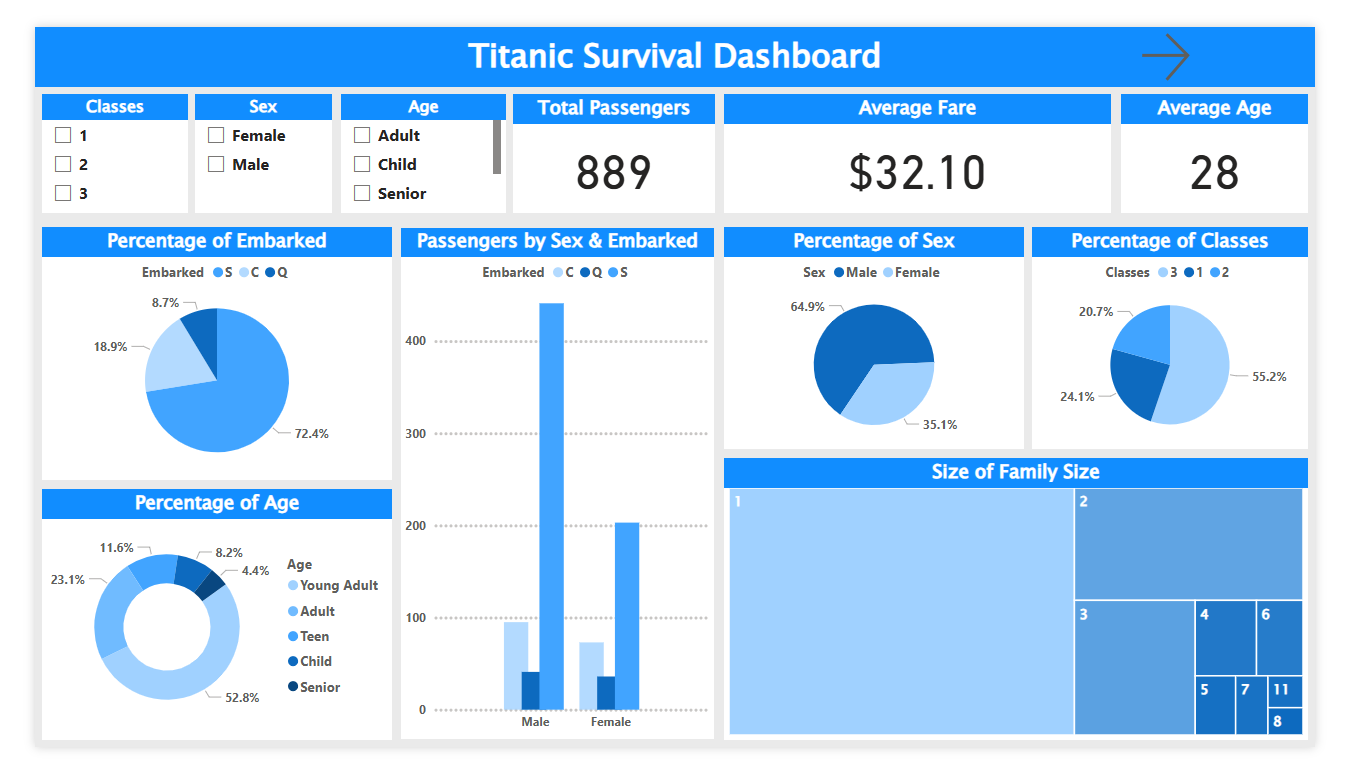

Layout of this report page (visuals, bound fields, positions):
{"tool":"powerbi","page":{"name":"Who Was on Board?","canvas":[1280,720],"ordinal":0},"visuals":[{"type":"textbox","box":[0,0,1280,60],"z":1000},{"type":"cardVisual","title":"Average Age","fields":{"Data":["Titanic.Avg Age Survivors"]},"box":[1086,67,187,119],"z":2000},{"type":"cardVisual","title":"Average Fare","fields":{"Data":["Titanic.Avg Fare"]},"box":[689,67,387,119],"z":3000},{"type":"slicer","title":"Classes","fields":{"Values":["Titanic.Pclass"]},"box":[7,67,146,119],"z":4000},{"type":"slicer","title":"Sex","fields":{"Values":["Titanic.Sex"]},"box":[160,67,137,119],"z":5000},{"type":"cardVisual","title":"Total Passengers","fields":{"Data":["CountNonNull(Titanic.Survived)"]},"box":[478,67,202,119],"z":6000},{"type":"pieChart","title":"Percentage of Classes","fields":{"Category":["Titanic.Pclass"],"Y":["CountNonNull(Titanic.Pclass)"]},"box":[997,200,276,222],"z":7000},{"type":"pieChart","title":"Percentage of Sex","fields":{"Category":["Titanic.Sex"],"Y":["CountNonNull(Titanic.Survived)"]},"box":[689,200,300,222],"z":8000},{"type":"donutChart","title":"Percentage of Age","fields":{"Category":["Titanic.AgeGroup"],"Y":["CountNonNull(Titanic.AgeGroup)"]},"box":[7,462,350,251],"z":9000},{"type":"treemap","title":"Size of Family Size","fields":{"Group":["Titanic.FamilySize"],"Values":["CountNonNull(Titanic.IsAlone)"]},"box":[689,431,584,282],"z":10000},{"type":"pieChart","title":"Percentage of Embarked ","fields":{"Category":["Titanic.Embarked"],"Y":["CountNonNull(Titanic.Embarked)"]},"box":[7,200,350,253],"z":11000},{"type":"slicer","title":"Age","fields":{"Values":["Titanic.AgeGroup"]},"box":[306,67,165,119],"z":12000},{"type":"clusteredColumnChart","title":"Passengers by Sex & Embarked","fields":{"Category":["Titanic.Sex"],"Y":["CountNonNull(Titanic.Survived)"],"Series":["Titanic.Embarked"]},"box":[365,200,315,513],"z":13000},{"type":"actionButton","box":[979,0,301,60],"z":14000}]}

Visuals, with their boxes in screenshot pixels (x1, y1, x2, y2), scaled from the page's 1280x720 canvas onto the 1351x778 screenshot:
textbox: BBox(0, 0, 1350, 65)
"Average Age" cardVisual: BBox(1146, 72, 1344, 201)
"Average Fare" cardVisual: BBox(727, 72, 1136, 201)
"Classes" slicer: BBox(7, 72, 161, 201)
"Sex" slicer: BBox(169, 72, 313, 201)
"Total Passengers" cardVisual: BBox(505, 72, 718, 201)
"Percentage of Classes" pieChart: BBox(1052, 216, 1344, 456)
"Percentage of Sex" pieChart: BBox(727, 216, 1044, 456)
"Percentage of Age" donutChart: BBox(7, 499, 377, 770)
"Size of Family Size" treemap: BBox(727, 466, 1344, 770)
"Percentage of Embarked " pieChart: BBox(7, 216, 377, 489)
"Age" slicer: BBox(323, 72, 497, 201)
"Passengers by Sex & Embarked" clusteredColumnChart: BBox(385, 216, 718, 770)
actionButton: BBox(1033, 0, 1350, 65)
